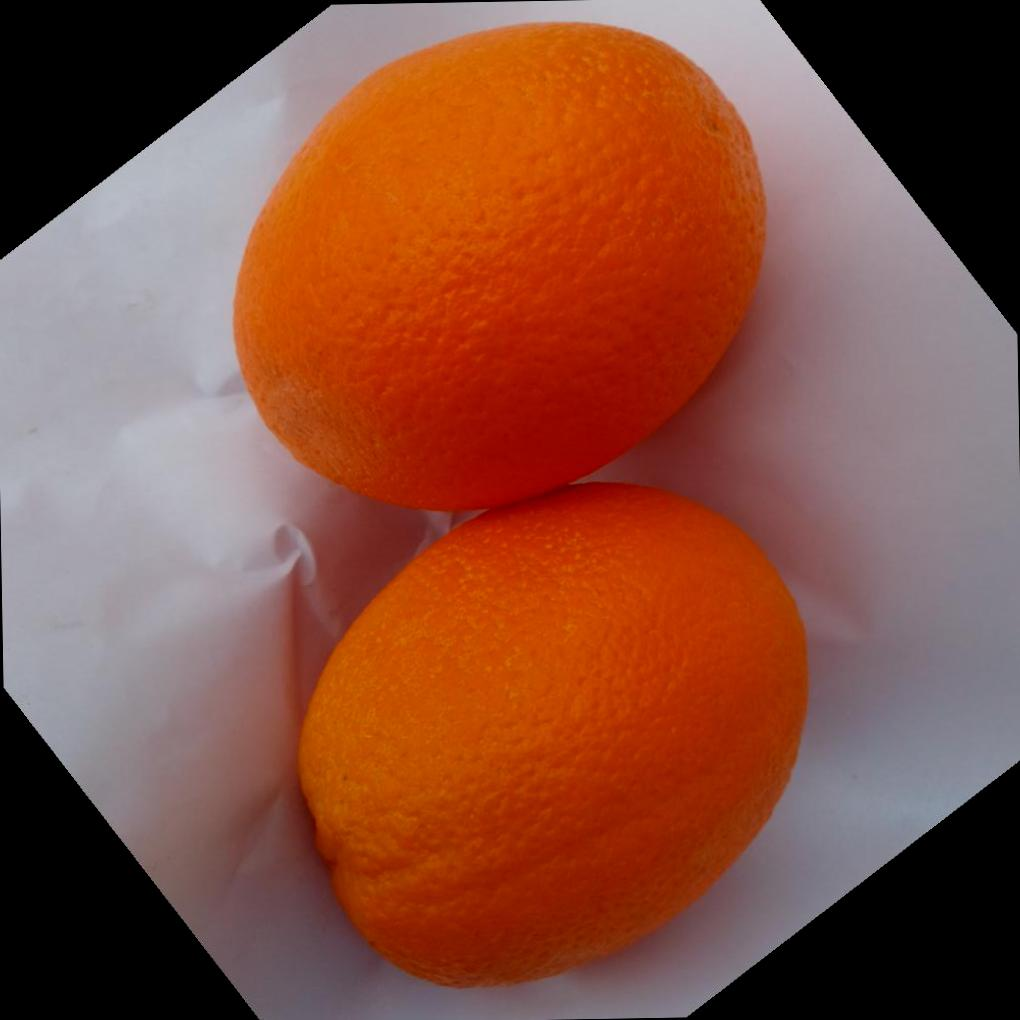FreshGuava: (232, 17, 813, 989)
